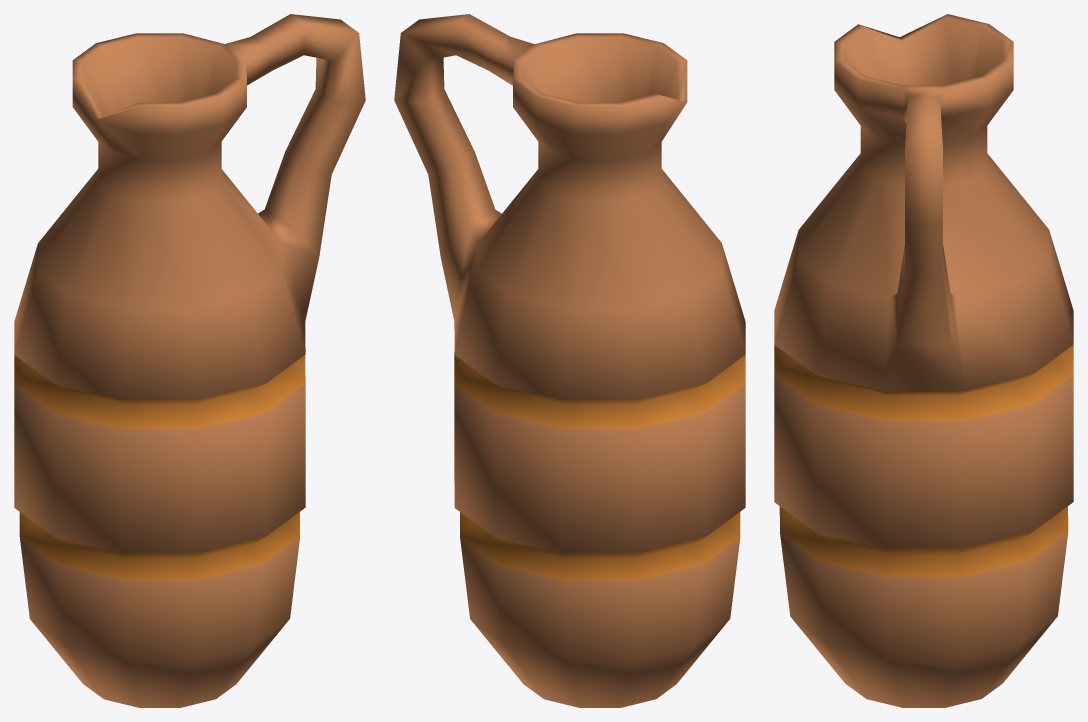
Rendered from rpgpp_lt_jug_01.glb.
The picture shows the model from 3 angles, left to right: view 1: azimuth 30°, elevation 25°; view 2: azimuth 150°, elevation 25°; view 3: azimuth 270°, elevation 25°; orthographic projection. The views are drawn at different scales.
Visible parts, largest first — view 1: rpgpp_lt_jug_01; view 2: rpgpp_lt_jug_01; view 3: rpgpp_lt_jug_01.
Part boxes in pixels (x1,y1,x2,y2): rpgpp_lt_jug_01: (14, 14, 365, 707); rpgpp_lt_jug_01: (394, 14, 745, 707); rpgpp_lt_jug_01: (774, 14, 1073, 707).
Bounding box in the file's own units: 0.2921 × 0.5378 × 0.2283.
Materials: 1 (1 with a texture image).
